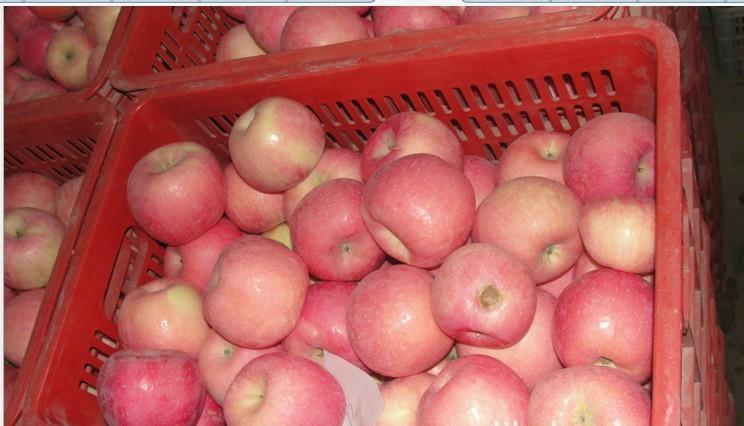apple: (364, 153, 477, 267), (347, 262, 456, 379), (476, 174, 586, 284), (204, 232, 311, 343), (552, 269, 654, 379), (431, 242, 535, 349), (124, 142, 227, 245), (288, 176, 389, 278), (227, 97, 326, 194), (225, 351, 344, 425), (566, 112, 663, 202), (95, 351, 209, 425), (115, 275, 206, 354), (359, 113, 464, 176), (579, 190, 657, 272), (2, 213, 64, 293), (278, 2, 373, 51), (497, 128, 570, 184), (45, 23, 99, 89), (372, 5, 462, 35), (4, 170, 58, 214)
